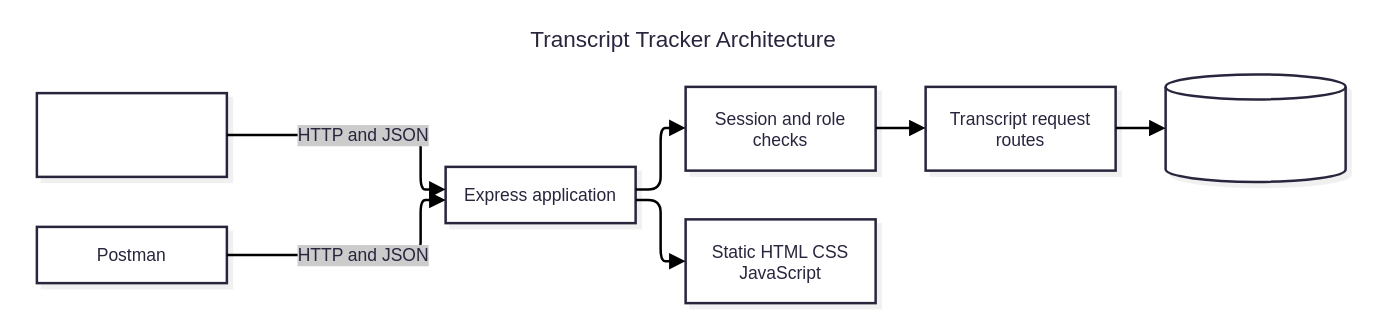
This 1373x330 diagram has some shape labels left out. The centre of each missing label's shape, as x and y in pixels:
"SQLite database" belongs at (1257,130).
"Student and registrar browsers" belongs at (133,136).
